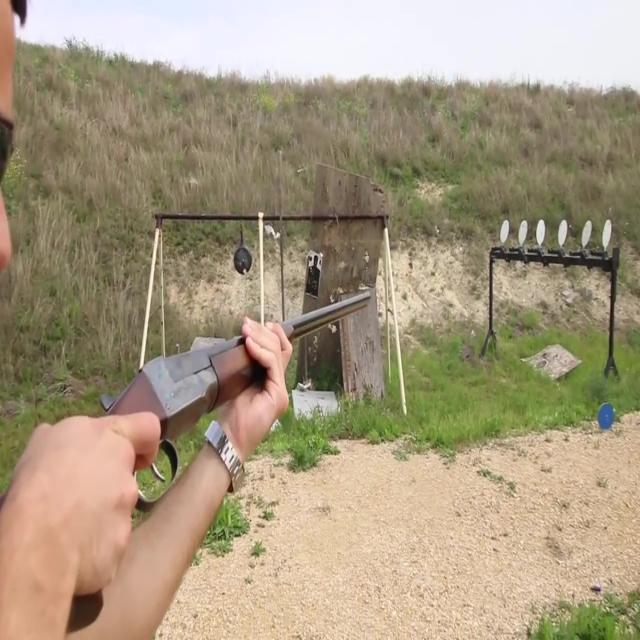Weapon: (35, 236, 399, 559)
